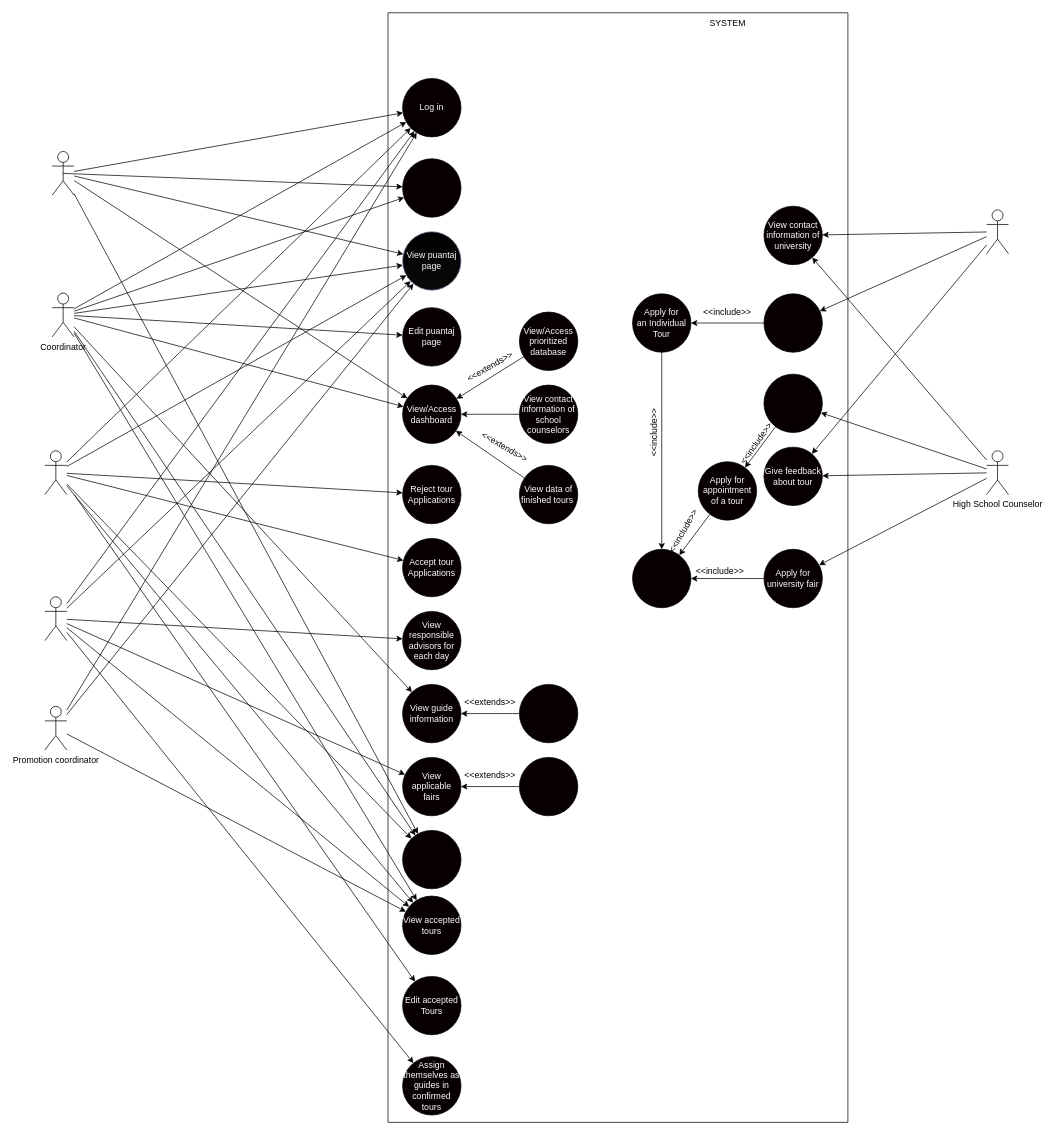
The diagram is 1055 pixels wide and 1135 high, and some of its shapes have lost their labels. Here are the shapes that lost their labels. From the top down, the centre of each, then its label:
the point at 62,173: Director
the point at 431,187: Review university fair applications
the point at 997,231: Individual Student
the point at 792,322: Provide detailed information
the point at 792,403: Choose time interval
the point at 55,472: Advisor
the point at 661,578: Accept terms and conditions
the point at 55,618: Guide
the point at 548,713: Add/Remove guide
the point at 548,786: Apply for applicable fairs
the point at 431,859: View tour applications
